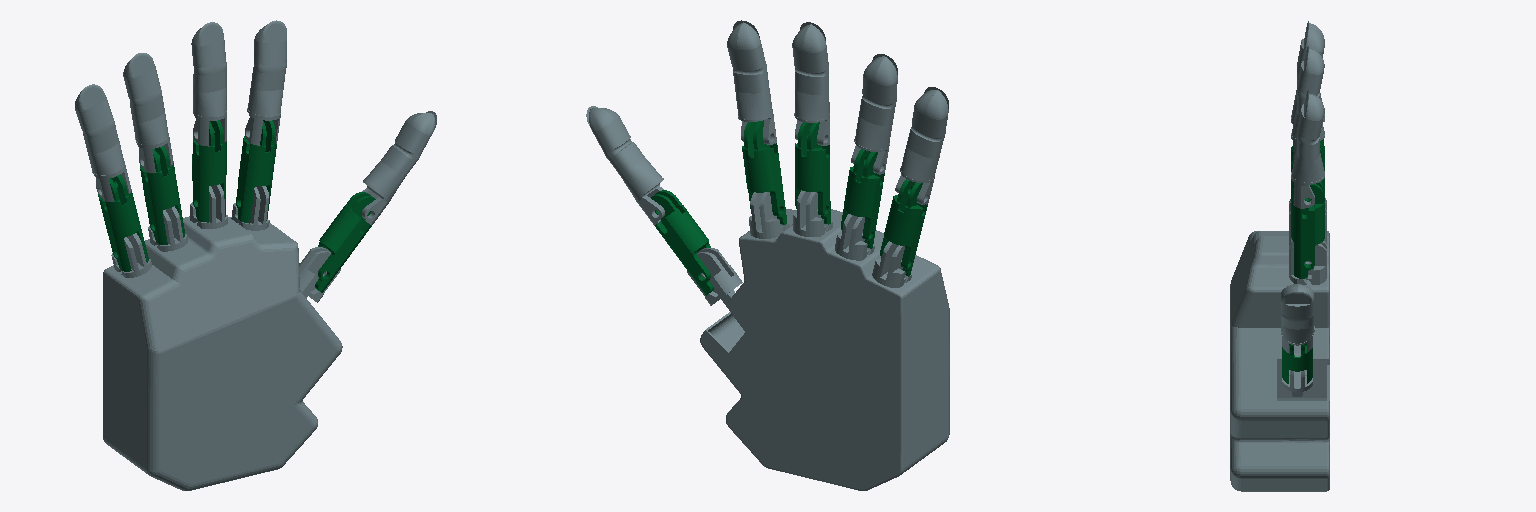
The robot description file, URDF, robot "hermes_left_hand":
<?xml version="1.0"?>
<robot name="hermes_left_hand">

 <!-- **************************** LINKS ***************************** -->
  <link name="l_base_hand"> 
    <inertial>
      <origin xyz="0 0 0" /> 
      <mass value="1.0" />
      <inertia  ixx="1.0" ixy="0.0"  ixz="0.0"  iyy="1.0"  iyz="0.0"  izz="1.0" />
    </inertial>
    <visual>
      <origin xyz="0 0 0"/>
      <geometry>
        <mesh filename="package://hermes_arm_kdl/stl/left_base_hand.stl" />
      </geometry>
      <material name="link">
        <color rgba="0.4706 0.5451 0.5647 1"/>
      </material>
    </visual>
    <collision>
      <origin rpy="0 0 0" xyz="0 0 0"/>
      <geometry>
        <mesh filename="package://hermes_arm_kdl/stl/left_base_hand.stl" />
      </geometry>
    </collision>	
  </link>

  <link name="l_thumb1"> 
    <inertial>
      <origin xyz="0 0 0" /> 
      <mass value="1.0" />
      <inertia  ixx="1.0" ixy="0.0"  ixz="0.0"  iyy="1.0"  iyz="0.0"  izz="1.0" />
    </inertial>
    <visual>
      <origin xyz="0 0 0"/>
      <geometry>
        <mesh filename="package://hermes_arm_kdl/stl/left_thumb_link1.stl" />
      </geometry>
      <material name="link">
        <color rgba="0.4706 0.5451 0.5647 1"/>
      </material>
    </visual>
    <collision>
      <origin rpy="0 0 0" xyz="0 0 0"/>
      <geometry>
        <mesh filename="package://hermes_arm_kdl/stl/left_thumb_link1.stl" />
      </geometry>
    </collision>	
  </link>

  <link name="l_thumb2"> 
    <inertial>
      <origin xyz="0 0 0" /> 
      <mass value="1.0" />
      <inertia  ixx="1.0" ixy="0.0"  ixz="0.0"  iyy="1.0"  iyz="0.0"  izz="1.0" />
    </inertial>
    <visual>
      <origin xyz="0 0 0"/>
      <geometry>
        <mesh filename="package://hermes_arm_kdl/stl/left_thumb_link2.stl" />
      </geometry>
      <material name="link2">
        <color rgba="0.03922 0.39922 0.2118 1"/>
      </material>
    </visual>
    <collision>
      <origin rpy="0 0 0" xyz="0 0 0"/>
      <geometry>
        <mesh filename="package://hermes_arm_kdl/stl/left_thumb_link2.stl" />
      </geometry>
    </collision>	
  </link>


  <link name="l_thumb3"> 
    <inertial>
      <origin xyz="0 0 0" /> 
      <mass value="1.0" />
      <inertia  ixx="1.0" ixy="0.0"  ixz="0.0"  iyy="1.0"  iyz="0.0"  izz="1.0" />
    </inertial>
    <visual>
      <origin xyz="0 0 0"/>
      <geometry>
        <mesh filename="package://hermes_arm_kdl/stl/left_thumb_link3.stl" />
      </geometry>
      <material name="link">
        <color rgba="0.4706 0.5451 0.5647 1"/>
      </material>
    </visual>
    <collision>
      <origin rpy="0 0 0" xyz="0 0 0"/>
      <geometry>
        <mesh filename="package://hermes_arm_kdl/stl/left_thumb_link3.stl" />
      </geometry>
    </collision>	
  </link>
  
  


  <link name="l_index1"> 
    <inertial>
      <origin xyz="0 0 0" /> 
      <mass value="1.0" />
      <inertia  ixx="1.0" ixy="0.0"  ixz="0.0"  iyy="1.0"  iyz="0.0"  izz="1.0" />
    </inertial>
    <visual>
      <origin xyz="0 0 0"/>
      <geometry>
        <mesh filename="package://hermes_arm_kdl/stl/left_index_link1.stl" />
      </geometry>
      <material name="link2">
        <color rgba="0.03922 0.39922 0.2118 1"/>
      </material>
    </visual>
    <collision>
      <origin rpy="0 0 0" xyz="0 0 0"/>
      <geometry>
        <mesh filename="package://hermes_arm_kdl/stl/left_index_link1.stl" />
      </geometry>
    </collision>	
  </link>

  <link name="l_index2"> 
    <inertial>
      <origin xyz="0 0 0" /> 
      <mass value="1.0" />
      <inertia  ixx="1.0" ixy="0.0"  ixz="0.0"  iyy="1.0"  iyz="0.0"  izz="1.0" />
    </inertial>
    <visual>
      <origin xyz="0 0 0"/>
      <geometry>
        <mesh filename="package://hermes_arm_kdl/stl/left_index_link2.stl" />
      </geometry>
      <material name="link">
        <color rgba="0.4706 0.5451 0.5647 1"/>
      </material>
    </visual>
    <collision>
      <origin rpy="0 0 0" xyz="0 0 0"/>
      <geometry>
        <mesh filename="package://hermes_arm_kdl/stl/left_index_link2.stl" />
      </geometry>
    </collision>	
  </link>



  <link name="l_middle1"> 
    <inertial>
      <origin xyz="0 0 0" /> 
      <mass value="1.0" />
      <inertia  ixx="1.0" ixy="0.0"  ixz="0.0"  iyy="1.0"  iyz="0.0"  izz="1.0" />
    </inertial>
    <visual>
      <origin xyz="0 0 0"/>
      <geometry>
        <mesh filename="package://hermes_arm_kdl/stl/left_middle_link1.stl" />
      </geometry>
      <material name="link2">
        <color rgba="0.03922 0.39922 0.2118 1"/>
      </material>
    </visual>
    <collision>
      <origin rpy="0 0 0" xyz="0 0 0"/>
      <geometry>
        <mesh filename="package://hermes_arm_kdl/stl/left_middle_link1.stl" />
      </geometry>
    </collision>	
  </link>

  <link name="l_middle2"> 
    <inertial>
      <origin xyz="0 0 0" /> 
      <mass value="1.0" />
      <inertia  ixx="1.0" ixy="0.0"  ixz="0.0"  iyy="1.0"  iyz="0.0"  izz="1.0" />
    </inertial>
    <visual>
      <origin xyz="0 0 0"/>
      <geometry>
        <mesh filename="package://hermes_arm_kdl/stl/left_middle_link2.stl" />
      </geometry>
      <material name="link">
        <color rgba="0.4706 0.5451 0.5647 1"/>
      </material>
    </visual>
    <collision>
      <origin rpy="0 0 0" xyz="0 0 0"/>
      <geometry>
        <mesh filename="package://hermes_arm_kdl/stl/left_middle_link2.stl" />
      </geometry>
    </collision>	
  </link>

 <link name="l_ring1"> 
    <inertial>
      <origin xyz="0 0 0" /> 
      <mass value="1.0" />
      <inertia  ixx="1.0" ixy="0.0"  ixz="0.0"  iyy="1.0"  iyz="0.0"  izz="1.0" />
    </inertial>
    <visual>
      <origin xyz="0 0 0"/>
      <geometry>
        <mesh filename="package://hermes_arm_kdl/stl/left_ring_link1.stl" />
      </geometry>
      <material name="link2">
        <color rgba="0.03922 0.39922 0.2118 1"/>
      </material>
    </visual>
    <collision>
      <origin rpy="0 0 0" xyz="0 0 0"/>
      <geometry>
        <mesh filename="package://hermes_arm_kdl/stl/left_ring_link1.stl" />
      </geometry>
    </collision>	
  </link>

  <link name="l_ring2"> 
    <inertial>
      <origin xyz="0 0 0" /> 
      <mass value="1.0" />
      <inertia  ixx="1.0" ixy="0.0"  ixz="0.0"  iyy="1.0"  iyz="0.0"  izz="1.0" />
    </inertial>
    <visual>
      <origin xyz="0 0 0"/>
      <geometry>
        <mesh filename="package://hermes_arm_kdl/stl/left_ring_link2.stl" />
      </geometry>
      <material name="link">
        <color rgba="0.4706 0.5451 0.5647 1"/>
      </material>
    </visual>
    <collision>
      <origin rpy="0 0 0" xyz="0 0 0"/>
      <geometry>
        <mesh filename="package://hermes_arm_kdl/stl/left_ring_link2.stl" />
      </geometry>
    </collision>	
  </link>


 <link name="l_pinky1"> 
    <inertial>
      <origin xyz="0 0 0" /> 
      <mass value="1.0" />
      <inertia  ixx="1.0" ixy="0.0"  ixz="0.0"  iyy="1.0"  iyz="0.0"  izz="1.0" />
    </inertial>
    <visual>
      <origin xyz="0 0 0"/>
      <geometry>
        <mesh filename="package://hermes_arm_kdl/stl/left_pinky_link1.stl" />
      </geometry>
      <material name="link2">
        <color rgba="0.03922 0.39922 0.2118 1"/>
      </material>
    </visual>
    <collision>
      <origin rpy="0 0 0" xyz="0 0 0"/>
      <geometry>
        <mesh filename="package://hermes_arm_kdl/stl/left_pinky_link1.stl" />
      </geometry>
    </collision>	
  </link>

  <link name="l_pinky2"> 
    <inertial>
      <origin xyz="0 0 0" /> 
      <mass value="1.0" />
      <inertia  ixx="1.0" ixy="0.0"  ixz="0.0"  iyy="1.0"  iyz="0.0"  izz="1.0" />
    </inertial>
    <visual>
      <origin xyz="0 0 0"/>
      <geometry>
        <mesh filename="package://hermes_arm_kdl/stl/left_pinky_link2.stl" />
      </geometry>
      <material name="link">
        <color rgba="0.4706 0.5451 0.5647 1"/>
      </material>
    </visual>
    <collision>
      <origin rpy="0 0 0" xyz="0 0 0"/>
      <geometry>
        <mesh filename="package://hermes_arm_kdl/stl/left_pinky_link2.stl" />
      </geometry>
    </collision>	
  </link>

 <link name="l_thumb_eef" /> 
 <link name="l_index_eef" />
 <link name="l_middle_eef" />
 <link name="l_ring_eef" />
 <link name="l_pinky_eef" />
    



  

 <!-- **************************** JOINTS ***************************** -->

  <joint name="l_thumb_joint1" type="revolute">
    <parent link="l_base_hand"/>
    <child link="l_thumb1"/>
    <origin xyz="0.0403  0.0095 0.0593" rpy="0 -0.8149 0" />
    <limit effort="100" velocity="100" lower="-3.14" upper="3.14" />
    <axis xyz="0 0 1" />
  </joint>

  <joint name="l_thumb_joint2" type="revolute">
    <parent link="l_thumb1"/>
    <child link="l_thumb2"/>
    <origin xyz="0.033 0 0" rpy="1.5708 0 0" />
    <limit effort="100" velocity="100" lower="-3.14" upper="3.14" />
    <axis xyz="0 0 1" />
  </joint>

  <joint name="l_thumb_joint3" type="revolute">
    <parent link="l_thumb2"/>
    <child link="l_thumb3"/>
    <origin xyz="0.035 0 0" rpy="0 0 0" />
    <limit effort="100" velocity="100" lower="-3.14" upper="3.14" />
    <axis xyz="0 0 1" />
  </joint>

  <joint name="l_thumb_joint_eef" type="fixed">
    <parent link="l_thumb3"/>
    <child link="l_thumb_eef"/>
    <origin xyz="0.055425 0 0" rpy="0 0 0" />
  </joint>


  <joint name="l_index_joint1" type="revolute">
    <parent link="l_base_hand"/>
    <child link="l_index1"/>
    <origin xyz="0.03 0.0145 0.1240" rpy="0 -1.4331 0" />
    <limit effort="100" velocity="100" lower="-3.14" upper="3.14" />
    <axis xyz="0 0 1" />
  </joint>

  <joint name="l_index_joint2" type="revolute">
    <parent link="l_index1"/>
    <child link="l_index2"/>
    <origin xyz="0.035 0 0" rpy="0 0 0" />
    <limit effort="100" velocity="100" lower="-3.14" upper="3.14" />
    <axis xyz="0 0 1" />
  </joint>

  <joint name="l_index_joint_eff" type="fixed">
    <parent link="l_index2"/>
    <child link="l_index_eef"/>
    <origin xyz="0.055425 0 0" rpy="0 0 0" />
  </joint>

  <joint name="l_middle_joint1" type="revolute">
    <parent link="l_base_hand"/>
    <child link="l_middle1"/>
    <origin xyz="0.0066 0.0145 0.1304" rpy="0 -1.5645 0" />
    <limit effort="100" velocity="100" lower="-3.14" upper="3.14" />
    <axis xyz="0 0 1" />
  </joint>

  <joint name="l_middle_joint2" type="revolute">
    <parent link="l_middle1"/>
    <child link="l_middle2"/>
    <origin xyz="0.035 0 0" rpy="0 0 0" />
    <limit effort="100" velocity="100" lower="-3.14" upper="3.14" />
    <axis xyz="0 0 1" />
  </joint>

  <joint name="l_middle_joint_eff" type="fixed">
    <parent link="l_middle2"/>
    <child link="l_middle_eef"/>
    <origin xyz="0.055425 0 0" rpy="0 0 0" />
  </joint>

  <joint name="l_ring_joint1" type="revolute">
    <parent link="l_base_hand"/>
    <child link="l_ring1"/>
    <origin xyz="-0.0168 0.0145 0.1246" rpy="-3.1416 -1.4081 -3.1416" />
    <limit effort="100" velocity="100" lower="-3.14" upper="3.14" />
    <axis xyz="0 0 1" />
  </joint>

  <joint name="l_ring_joint2" type="revolute">
    <parent link="l_ring1"/>
    <child link="l_ring2"/>
    <origin xyz="0.035 0 0" rpy="0 0 0" />
    <limit effort="100" velocity="100" lower="-3.14" upper="3.14" />
    <axis xyz="0 0 1" />
  </joint>

  <joint name="l_ring_joint_eff" type="fixed">
    <parent link="l_ring2"/>
    <child link="l_ring_eef"/>
    <origin xyz="0.055425 0 0" rpy="0 0 0" />
  </joint>

  <joint name="l_pinky_joint1" type="revolute">
    <parent link="l_base_hand"/>
    <child link="l_pinky1"/>
    <origin xyz="-0.0370 0.0145 0.1157" rpy="-3.1416 -1.3298 -3.1416" />
    <limit effort="100" velocity="100" lower="-3.14" upper="3.14" />
    <axis xyz="0 0 1" />
  </joint>

  <joint name="l_pinky_joint2" type="revolute">
    <parent link="l_pinky1"/>
    <child link="l_pinky2"/>
    <origin xyz="0.035 0 0" rpy="0 0 0" />
    <limit effort="100" velocity="100" lower="-3.14" upper="3.14" />
    <axis xyz="0 0 1" />
  </joint >

  <joint name="l_pinky_joint_eff" type="fixed">
    <parent link="l_pinky2"/>
    <child link="l_pinky_eef"/>
    <origin xyz="0.055425 0 0" rpy="0 0 0" />
  </joint>


</robot>

--- What the picture shows (computed from the rendered views, not written in the file) ---
The picture shows the robot from 3 angles, left to right: view 1: azimuth 30°, elevation 25°; view 2: azimuth 150°, elevation 25°; view 3: azimuth 270°, elevation 25°; orthographic projection.
Robot: hermes_left_hand — 17 links, 16 joints (11 revolute, 5 fixed); root link l_base_hand; default pose: every joint at zero.
Visible links, largest first — view 1: l_base_hand, l_index2, l_middle2, l_ring2, l_pinky2, l_thumb3, l_thumb2, l_index1, l_middle1, l_ring1, l_pinky1, l_thumb1; view 2: l_base_hand, l_index2, l_thumb3, l_middle2, l_ring2, l_pinky2, l_thumb2, l_index1, l_middle1, l_ring1, l_pinky1, l_thumb1; view 3: l_base_hand, l_index2, l_index1, l_thumb3, l_middle2, l_thumb2, l_ring2, l_thumb1.
Link boxes in pixels (left/top/right/bottom): l_base_hand: left=103, top=184, right=342, bottom=490; l_index2: left=245, top=20, right=286, bottom=145; l_middle2: left=191, top=22, right=226, bottom=146; l_ring2: left=123, top=53, right=173, bottom=172; l_pinky2: left=75, top=84, right=131, bottom=201; l_thumb3: left=362, top=111, right=436, bottom=225; l_thumb2: left=315, top=192, right=375, bottom=292; l_index1: left=236, top=120, right=276, bottom=223; l_middle1: left=192, top=120, right=226, bottom=222; l_ring1: left=140, top=146, right=184, bottom=244; l_pinky1: left=98, top=174, right=148, bottom=271; l_thumb1: left=299, top=247, right=340, bottom=302; l_base_hand: left=700, top=190, right=949, bottom=490; l_index2: left=727, top=20, right=776, bottom=144; l_thumb3: left=586, top=106, right=664, bottom=225; l_middle2: left=792, top=22, right=829, bottom=145; l_ring2: left=851, top=54, right=897, bottom=174; l_pinky2: left=895, top=87, right=948, bottom=204; l_thumb2: left=651, top=190, right=713, bottom=295; l_index1: left=742, top=120, right=786, bottom=224; l_middle1: left=795, top=122, right=830, bottom=224; l_ring1: left=841, top=149, right=884, bottom=248; l_pinky1: left=880, top=179, right=927, bottom=276; l_thumb1: left=687, top=248, right=750, bottom=331; l_base_hand: left=1230, top=198, right=1329, bottom=491; l_index2: left=1291, top=90, right=1324, bottom=208; l_index1: left=1291, top=182, right=1324, bottom=278; l_thumb3: left=1281, top=284, right=1314, bottom=352; l_middle2: left=1291, top=46, right=1324, bottom=159; l_thumb2: left=1282, top=343, right=1312, bottom=383; l_ring2: left=1291, top=25, right=1324, bottom=123; l_thumb1: left=1282, top=353, right=1312, bottom=396.
Size in the robot's own frame: 0.1894 by 0.0465 by 0.2219 metres.
12 mesh visuals loaded from 12 distinct referenced files (12 binary STL).
